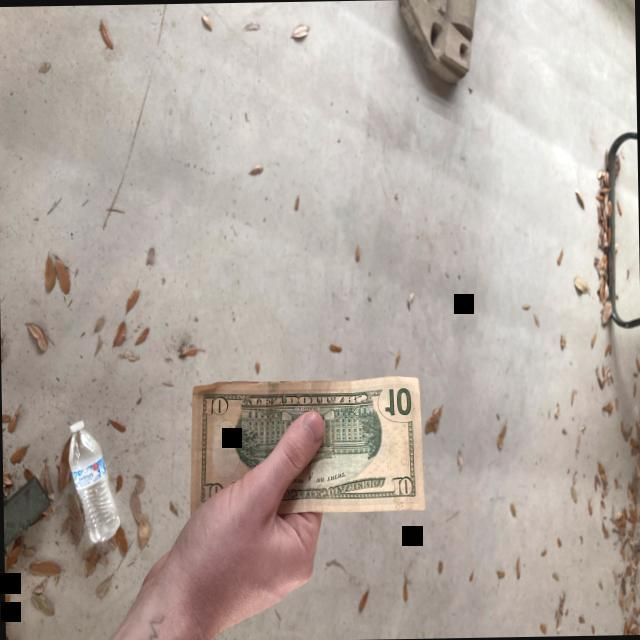ten: (188, 374, 424, 516)
